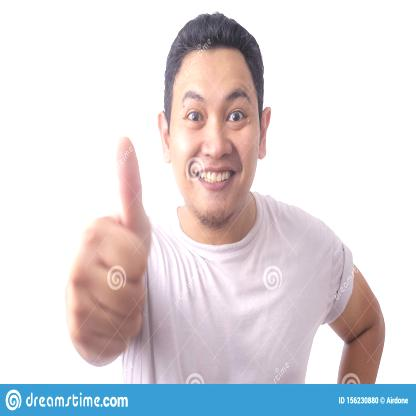Thumbs up: (45, 129, 150, 356)
